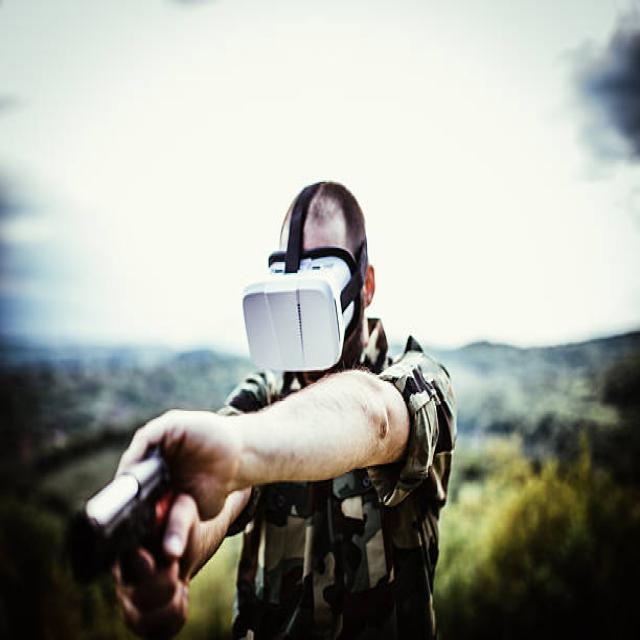soldier: (72, 158, 479, 640)
